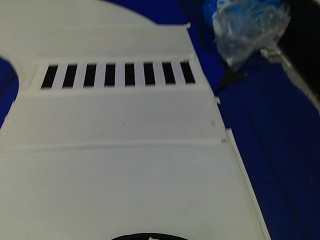crosswalk: (37, 58, 196, 90)
